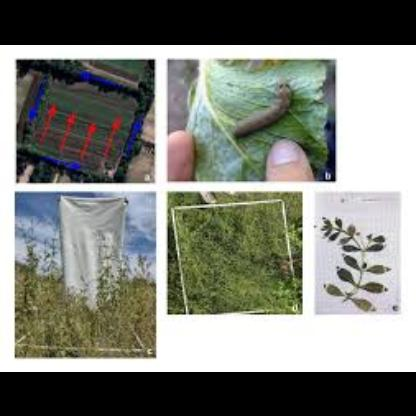oruga: (230, 74, 296, 138)
